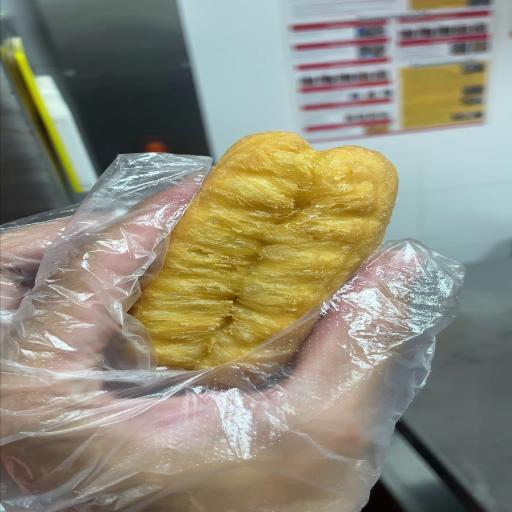brand_golden_good: (132, 132, 397, 369)
